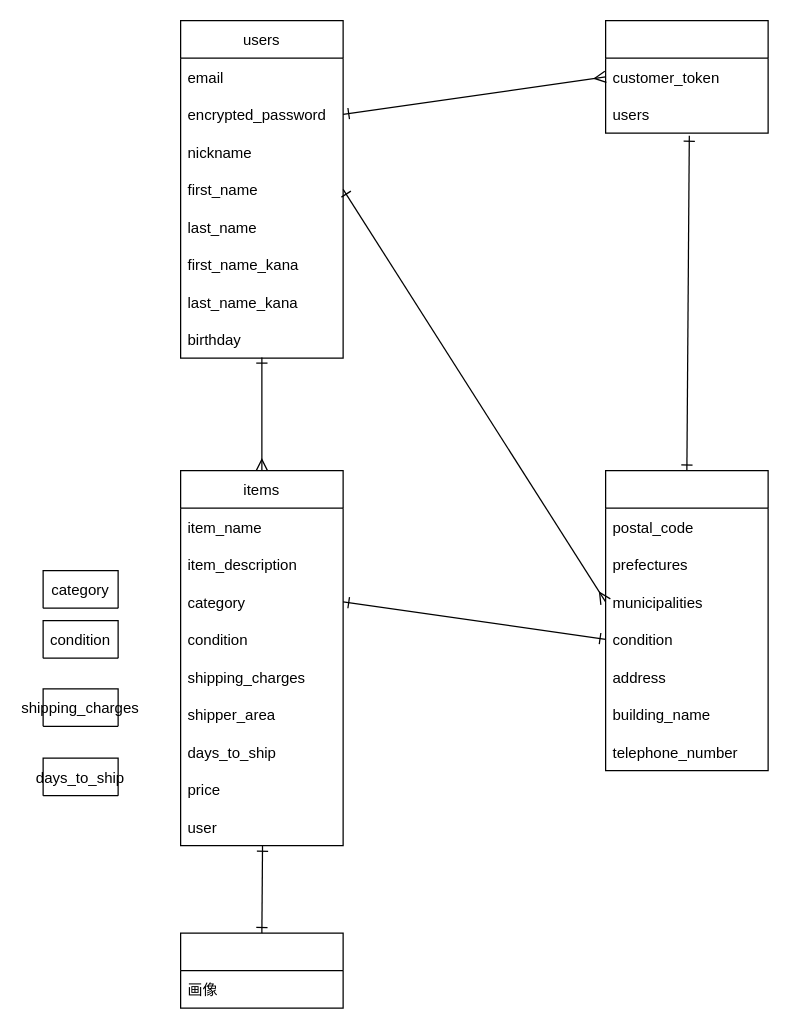
Some shapes in this 789 by 1029 pixel diagram are drawn without their labels. The shapes that lost their labels are listed below. From the top down, each one's box as (x1, y1, x2, y2) in pixels, then its label:
(604, 19, 768, 133): cards
(604, 469, 768, 771): orders
(179, 932, 343, 1008): Active Storage
